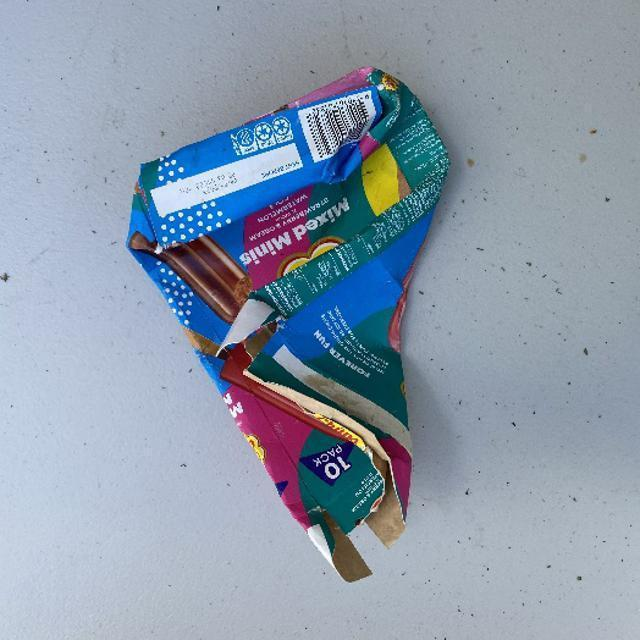Biodegradable: (123, 63, 449, 579)
